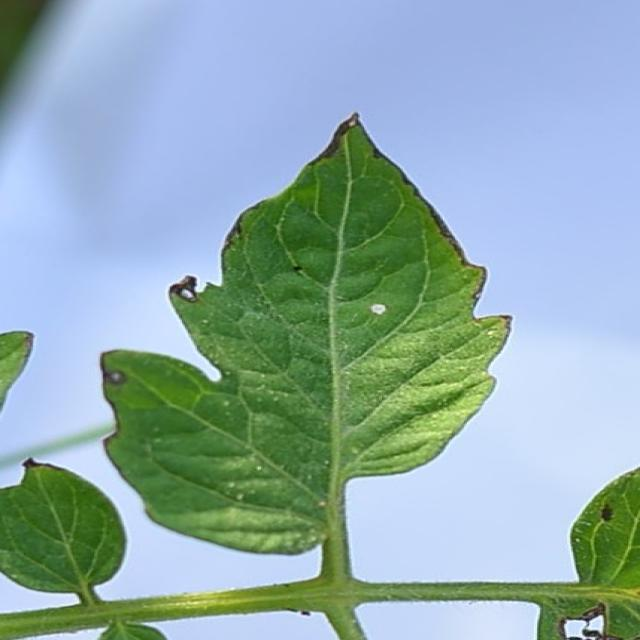infected: (95, 103, 424, 394), (510, 583, 638, 640)
